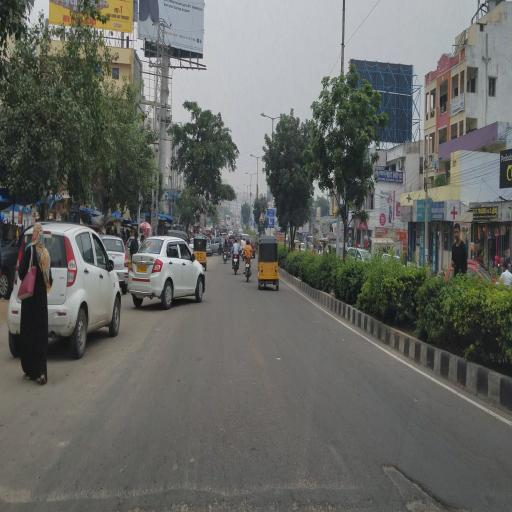street_light_0: (256, 107, 274, 127), (246, 150, 257, 164), (241, 165, 251, 179), (252, 167, 260, 183)
